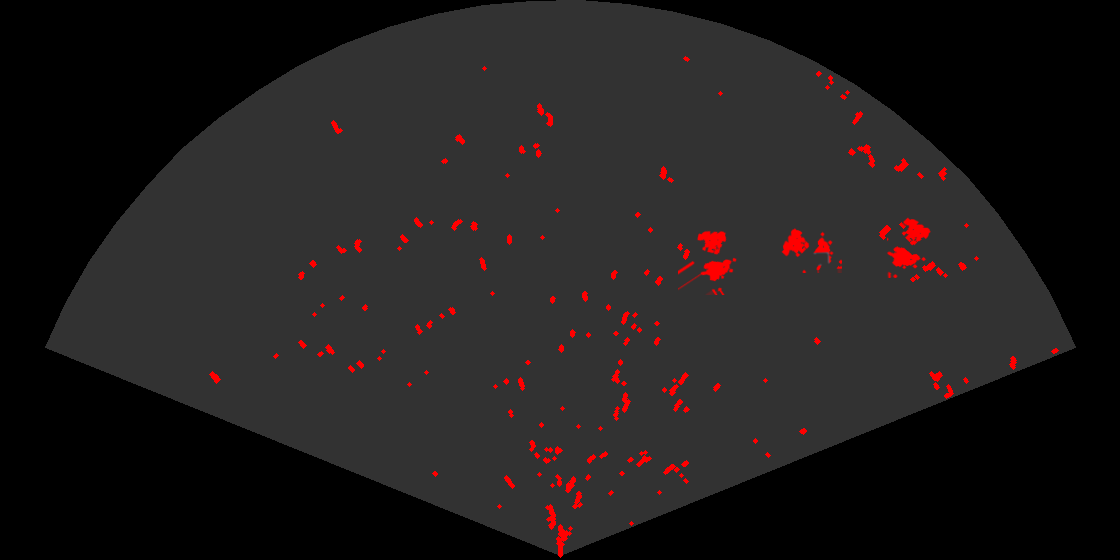cage: (678, 229, 738, 295), (780, 227, 842, 273), (887, 216, 932, 278)
